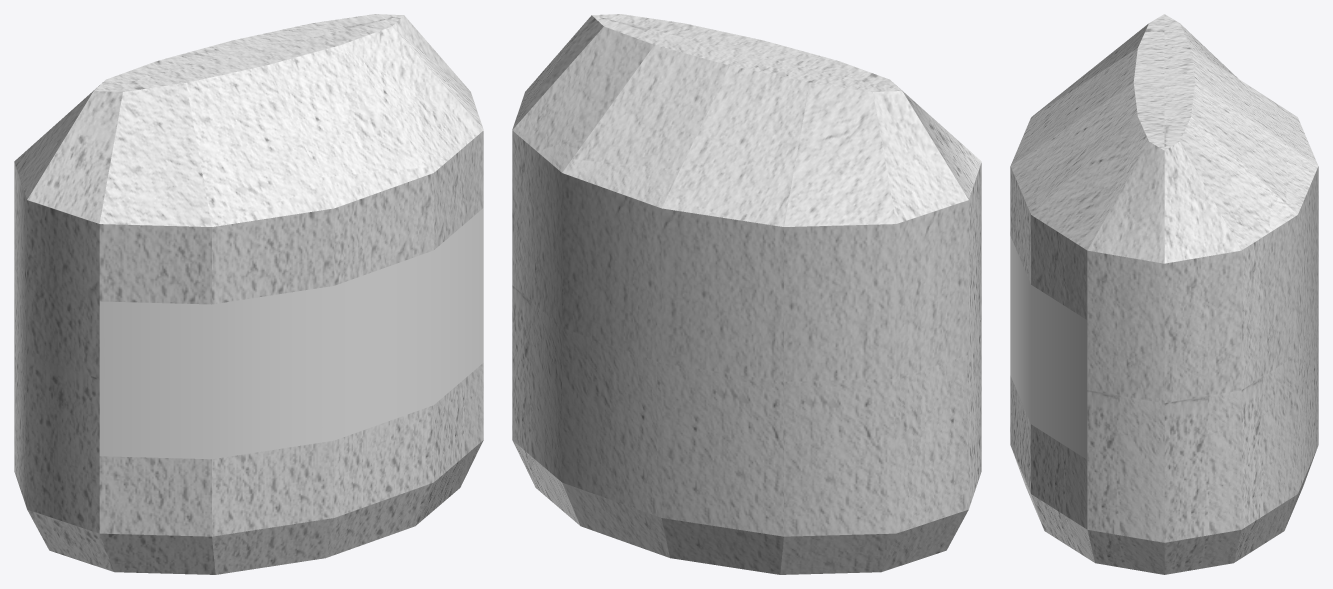
File: sandbag.obj
3 views of the same model, side by side, from view 1: azimuth 30°, elevation 25°; view 2: azimuth 150°, elevation 25°; view 3: azimuth 270°, elevation 25° (orthographic). The views are drawn at different scales.
Parts seen in each view (by area): view 1: sandbag; view 2: sandbag; view 3: sandbag.
Part boxes in pixels (left/top/right/bottom): sandbag: left=14, top=14, right=483, bottom=574; sandbag: left=512, top=14, right=981, bottom=574; sandbag: left=1010, top=14, right=1318, bottom=574.
Bounding box in the file's own units: 0.3 × 0.29 × 0.2.
Materials: 2 (1 with a texture image).
